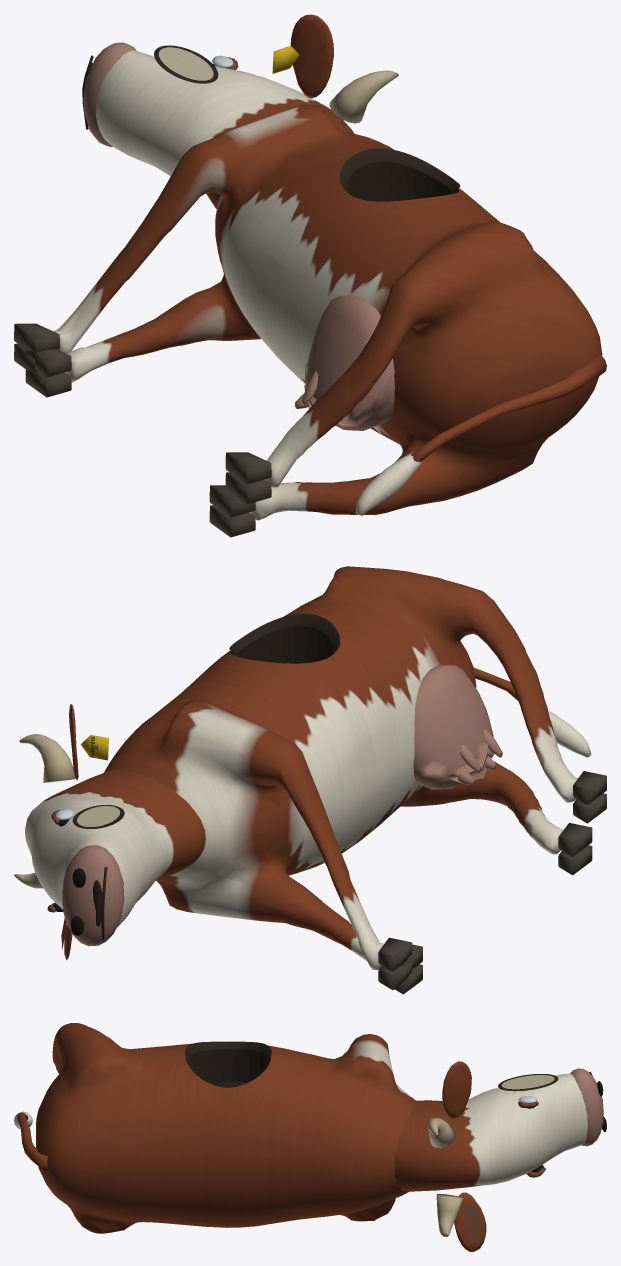
The model's file is SM_Cow_Abducted_LOD2.fbx.
3 renders of one model, top to bottom at view 1: azimuth 30°, elevation 25°; view 2: azimuth 150°, elevation 25°; view 3: azimuth 270°, elevation 25°, orthographic. The views are drawn at different scales.
Parts seen in each view (by area): view 1: SM_Cow_Abducted_LOD2; view 2: SM_Cow_Abducted_LOD2; view 3: SM_Cow_Abducted_LOD2.
Part boxes in pixels (left/top/right/bottom): SM_Cow_Abducted_LOD2: left=14, top=14, right=606, bottom=537; SM_Cow_Abducted_LOD2: left=14, top=566, right=606, bottom=994; SM_Cow_Abducted_LOD2: left=14, top=1023, right=606, bottom=1251.
Size of the model in its own units: 1.57 by 2.84 by 1.02.
